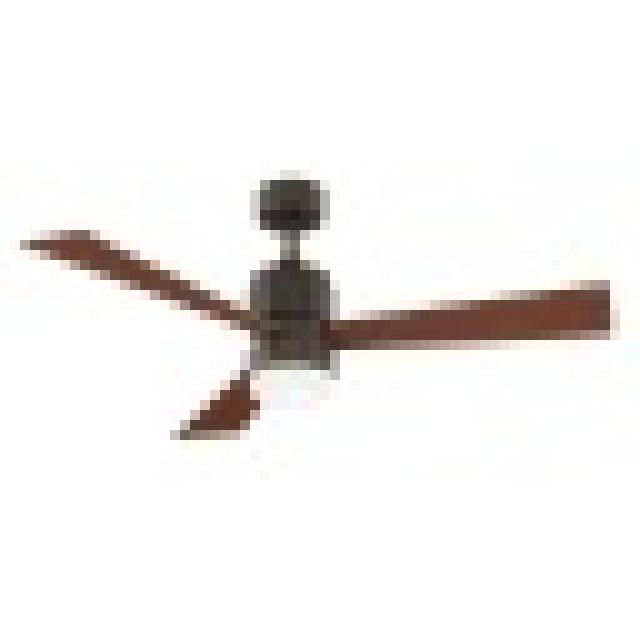Bulb: (17, 153, 634, 491)
